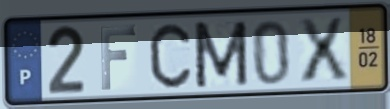0: (249, 17, 294, 87)
2: (46, 23, 90, 98)
C: (146, 21, 194, 91)
F: (97, 24, 138, 92)
M: (191, 19, 251, 91)
X: (295, 15, 351, 86)
